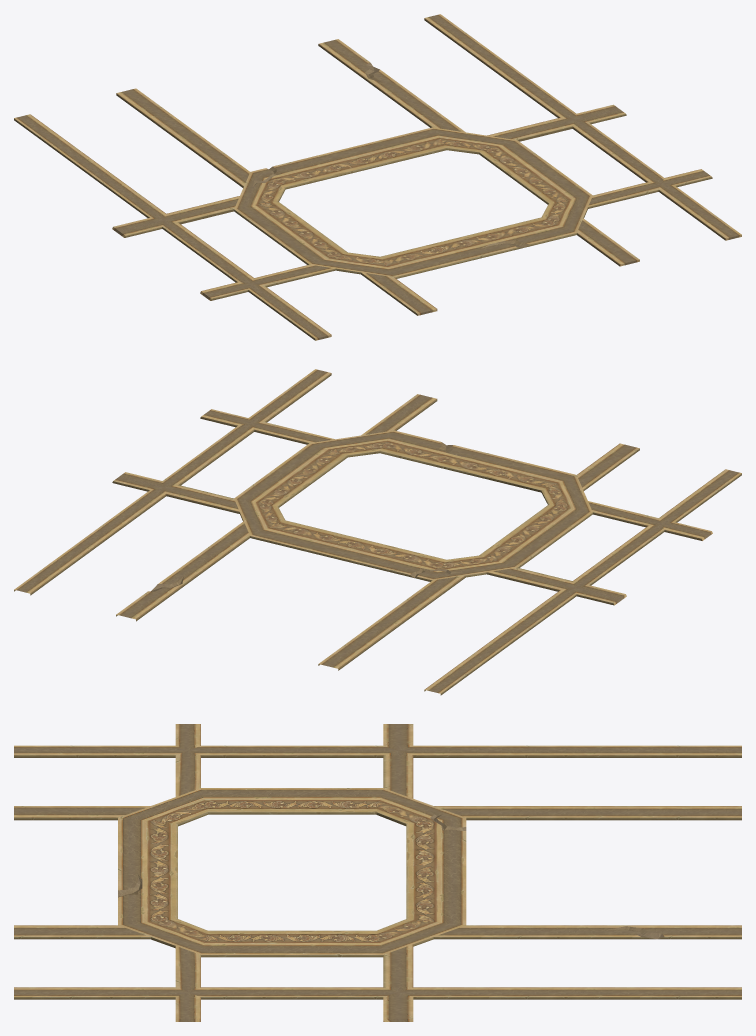
File: Ground_Terrain_bian_001.FBX
3 renders of one model, top to bottom at view 1: azimuth 30°, elevation 25°; view 2: azimuth 150°, elevation 25°; view 3: azimuth 270°, elevation 25°, orthographic. The views are drawn at different scales.
Parts seen in each view (by area): view 1: Ground_Terrain_bian_001; view 2: Ground_Terrain_bian_001; view 3: Ground_Terrain_bian_001.
Part boxes in pixels (x1,y1,x2,y2): Ground_Terrain_bian_001: [14, 14, 741, 340]; Ground_Terrain_bian_001: [14, 369, 741, 695]; Ground_Terrain_bian_001: [14, 724, 741, 1021].
Size of the model in its own units: 1914 by 7.58 by 1989.
